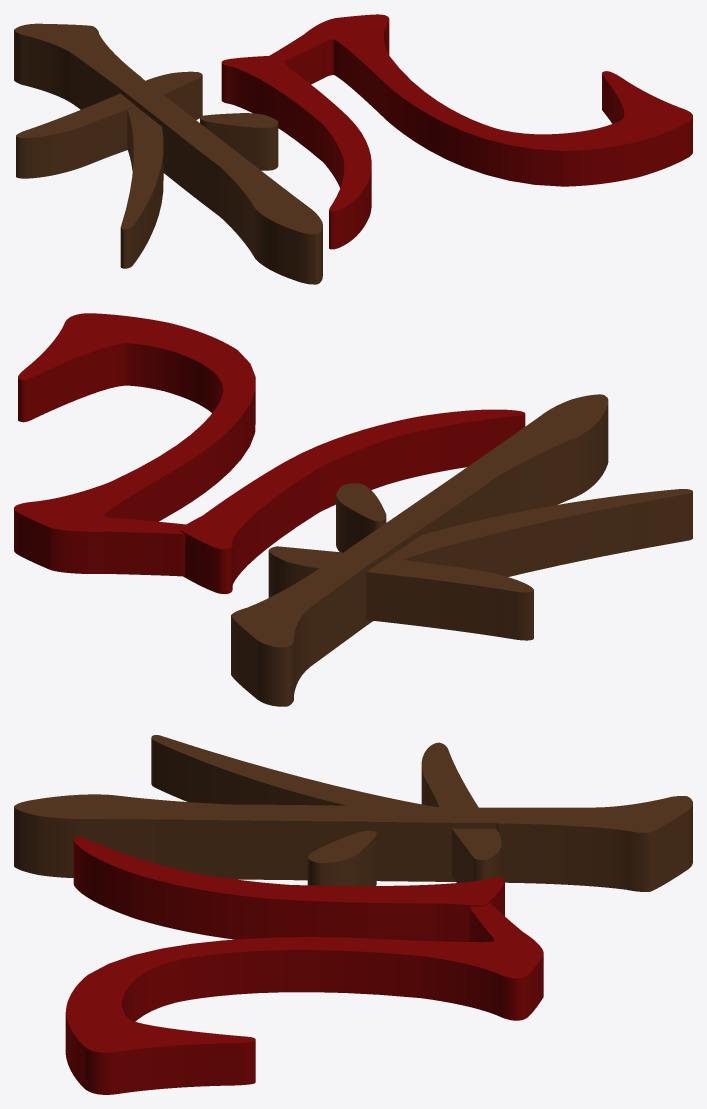
File: hanzi169.fbx
3 views of the same model, one above another, from view 1: azimuth 30°, elevation 25°; view 2: azimuth 150°, elevation 25°; view 3: azimuth 270°, elevation 25° (orthographic). The views are drawn at different scales.
Parts seen in each view (by area): view 1: Curve.005, Curve.001, Curve.004, Curve, Curve.002, Curve.003; view 2: Curve.005, Curve.001, Curve.004, Curve.002, Curve, Curve.003; view 3: Curve.001, Curve.005, Curve.004, Curve.002, Curve, Curve.003.
Part boxes in pixels (<box>): Curve.005: <box>269,14,692,186</box>; Curve.001: <box>14,23,322,284</box>; Curve.004: <box>221,55,371,249</box>; Curve: <box>16,71,202,178</box>; Curve.002: <box>120,106,163,268</box>; Curve.003: <box>200,113,278,170</box>; Curve.005: <box>14,313,255,576</box>; Curve.001: <box>231,394,608,706</box>; Curve.004: <box>180,409,525,593</box>; Curve.002: <box>388,489,692,576</box>; Curve: <box>268,546,533,640</box>; Curve.003: <box>336,483,386,552</box>; Curve.001: <box>14,794,692,891</box>; Curve.005: <box>65,902,543,1094</box>; Curve.004: <box>73,836,504,941</box>; Curve.002: <box>151,735,435,806</box>; Curve: <box>421,742,501,882</box>; Curve.003: <box>307,830,376,885</box>.
Size of the model in its own units: 26.29 by 23.9 by 2.3.
